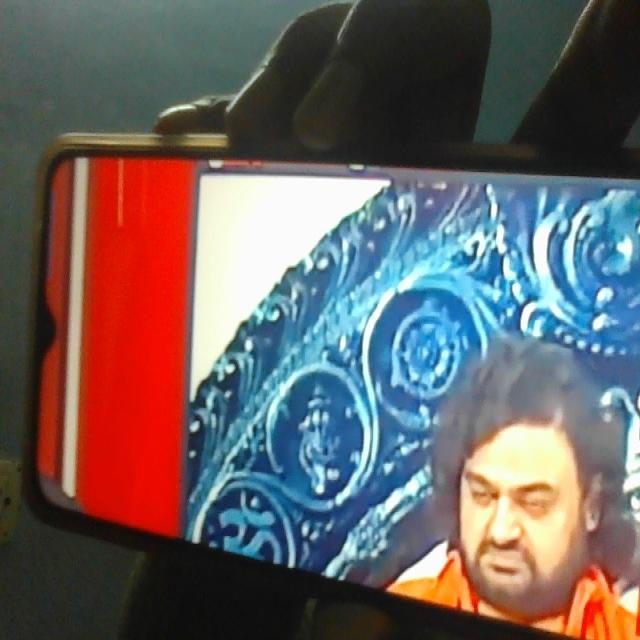fake: (454, 359, 596, 628)
